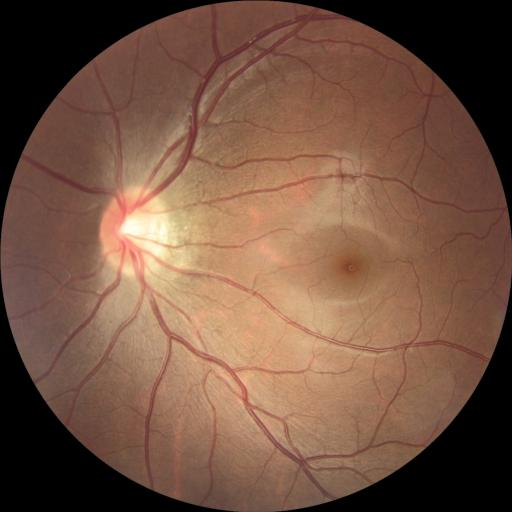Optic Cup: (118, 212, 147, 241)
Optic Disc: (100, 185, 171, 276)
